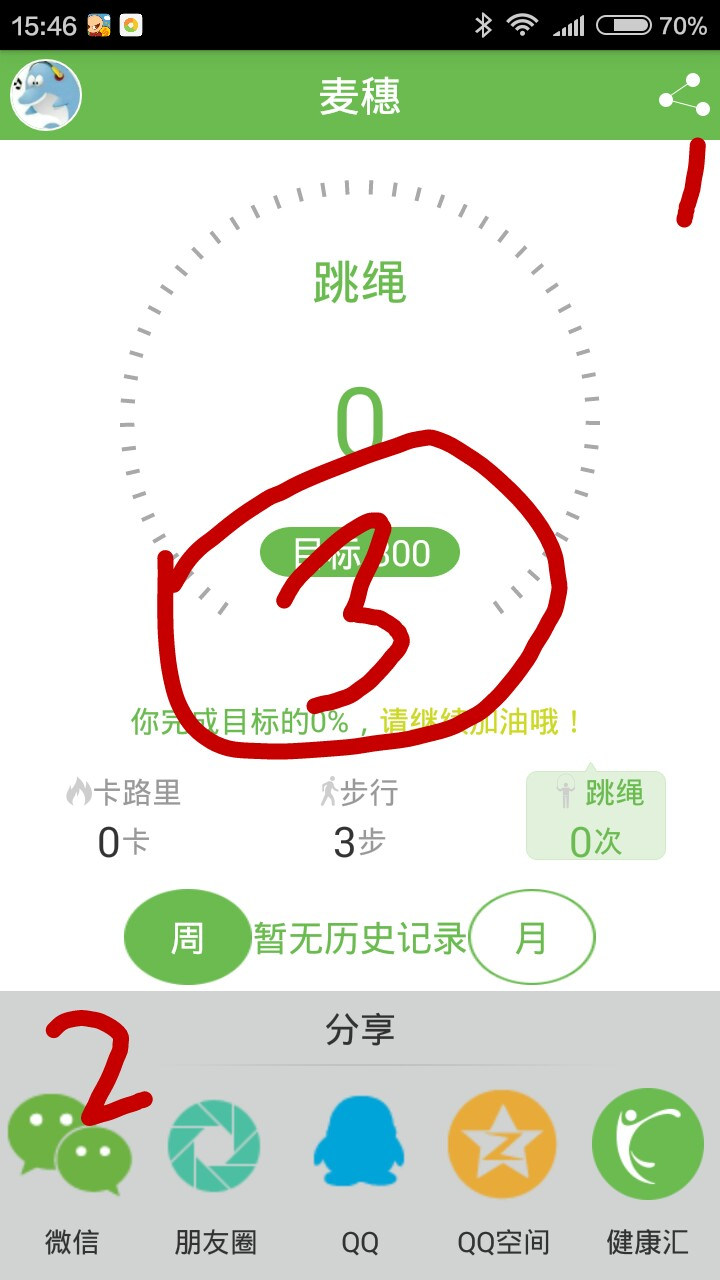imgbutton: (650, 67, 717, 126)
